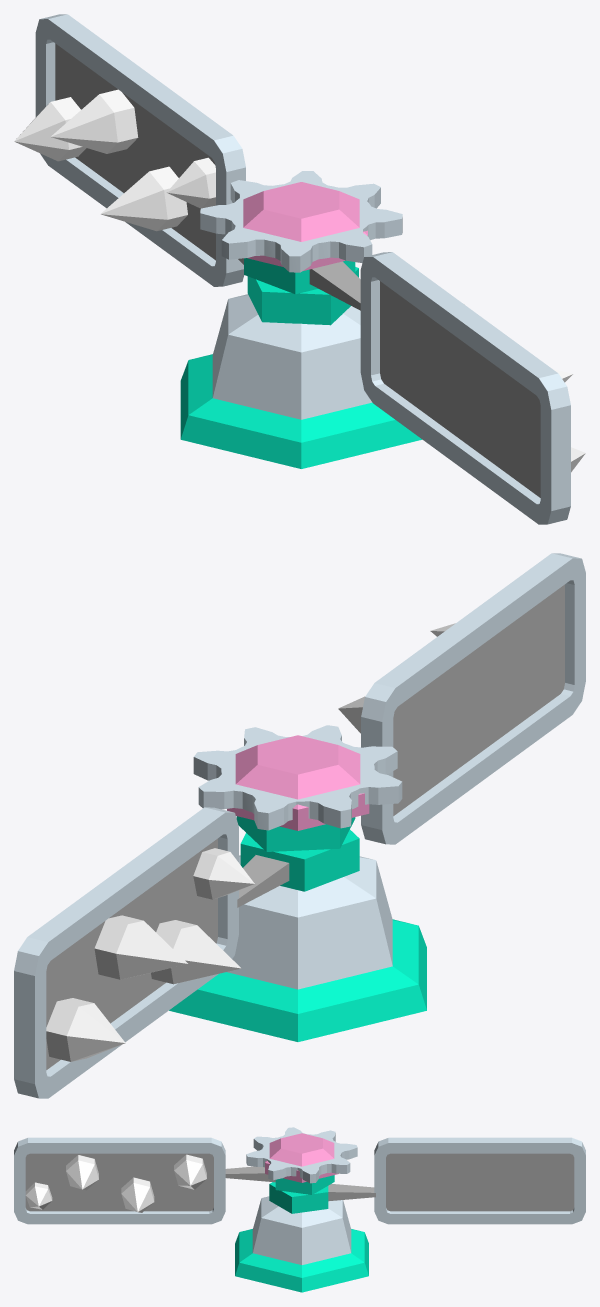
File: Spining_Thorns.fbx
The picture shows the model from 3 angles, top to bottom: view 1: azimuth 30°, elevation 25°; view 2: azimuth 150°, elevation 25°; view 3: azimuth 270°, elevation 25°; orthographic projection. The views are drawn at different scales.
Parts seen in each view (by area): view 1: ST_Thorns, ST_Holder; view 2: ST_Thorns, ST_Holder; view 3: ST_Thorns, ST_Holder.
Part boxes in pixels (x1,y1,x2,y2): ST_Thorns: [14, 14, 585, 524]; ST_Holder: [180, 171, 421, 468]; ST_Thorns: [14, 553, 585, 1098]; ST_Holder: [169, 725, 426, 1041]; ST_Thorns: [14, 1137, 585, 1224]; ST_Holder: [235, 1127, 368, 1292].
Size of the model in its own units: 125 by 107 by 463.
